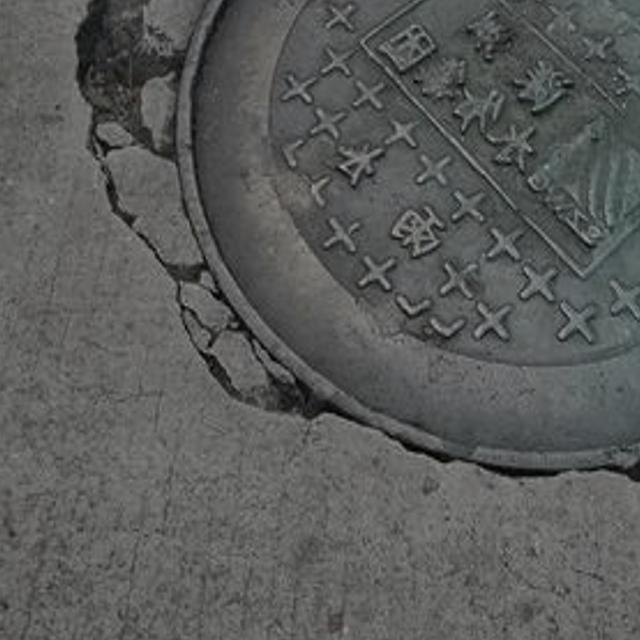circle: (59, 0, 640, 534)
